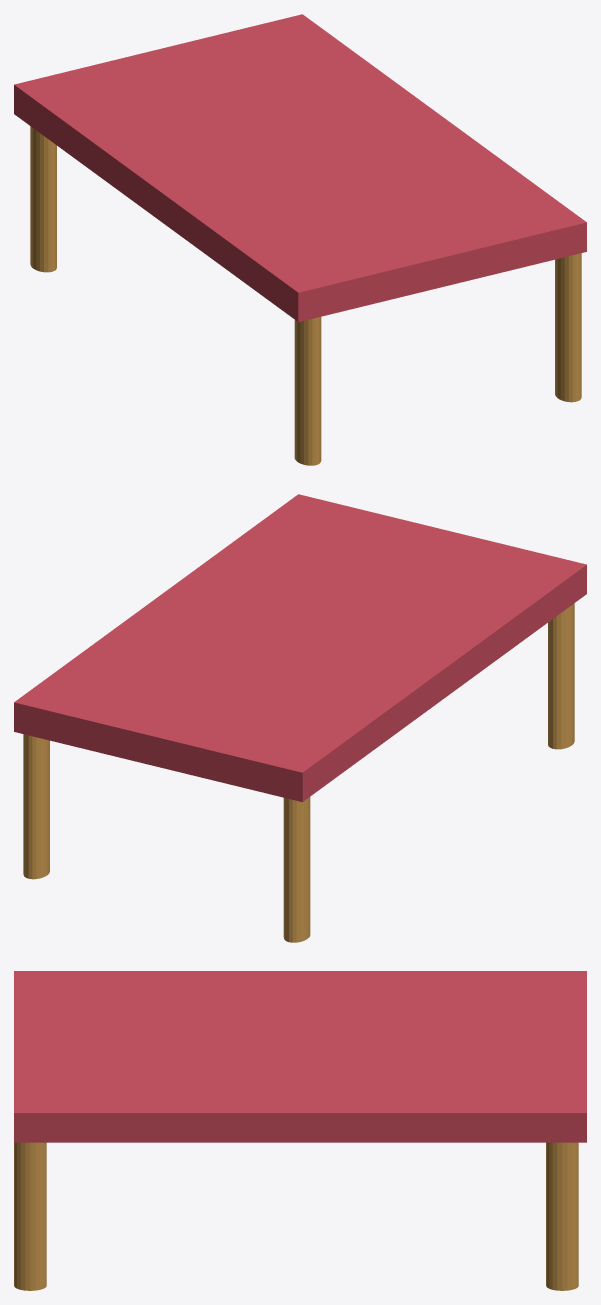
File: og_table.glb
The picture shows the model from 3 angles, top to bottom: view 1: azimuth 30°, elevation 25°; view 2: azimuth 150°, elevation 25°; view 3: azimuth 270°, elevation 25°; orthographic projection.
Parts seen in each view (by area): view 1: Mesh_Mesh_head_geo.001_lambert2SG.001; view 2: Mesh_Mesh_head_geo.001_lambert2SG.001; view 3: Mesh_Mesh_head_geo.001_lambert2SG.001.
Boxes of the visible parts, box(x1,y1,x2,y2) form: Mesh_Mesh_head_geo.001_lambert2SG.001: box(14, 14, 586, 465); Mesh_Mesh_head_geo.001_lambert2SG.001: box(14, 494, 586, 942); Mesh_Mesh_head_geo.001_lambert2SG.001: box(14, 971, 586, 1290).
Size of the model in its own units: 41 by 24 by 70.
